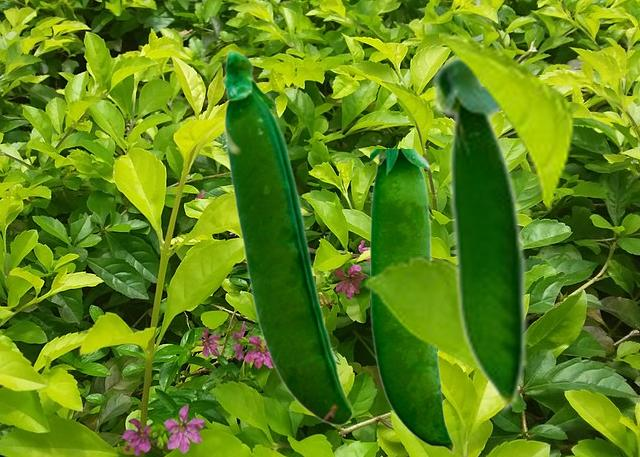pea: (221, 48, 352, 425), (430, 53, 527, 416), (370, 149, 453, 453)
